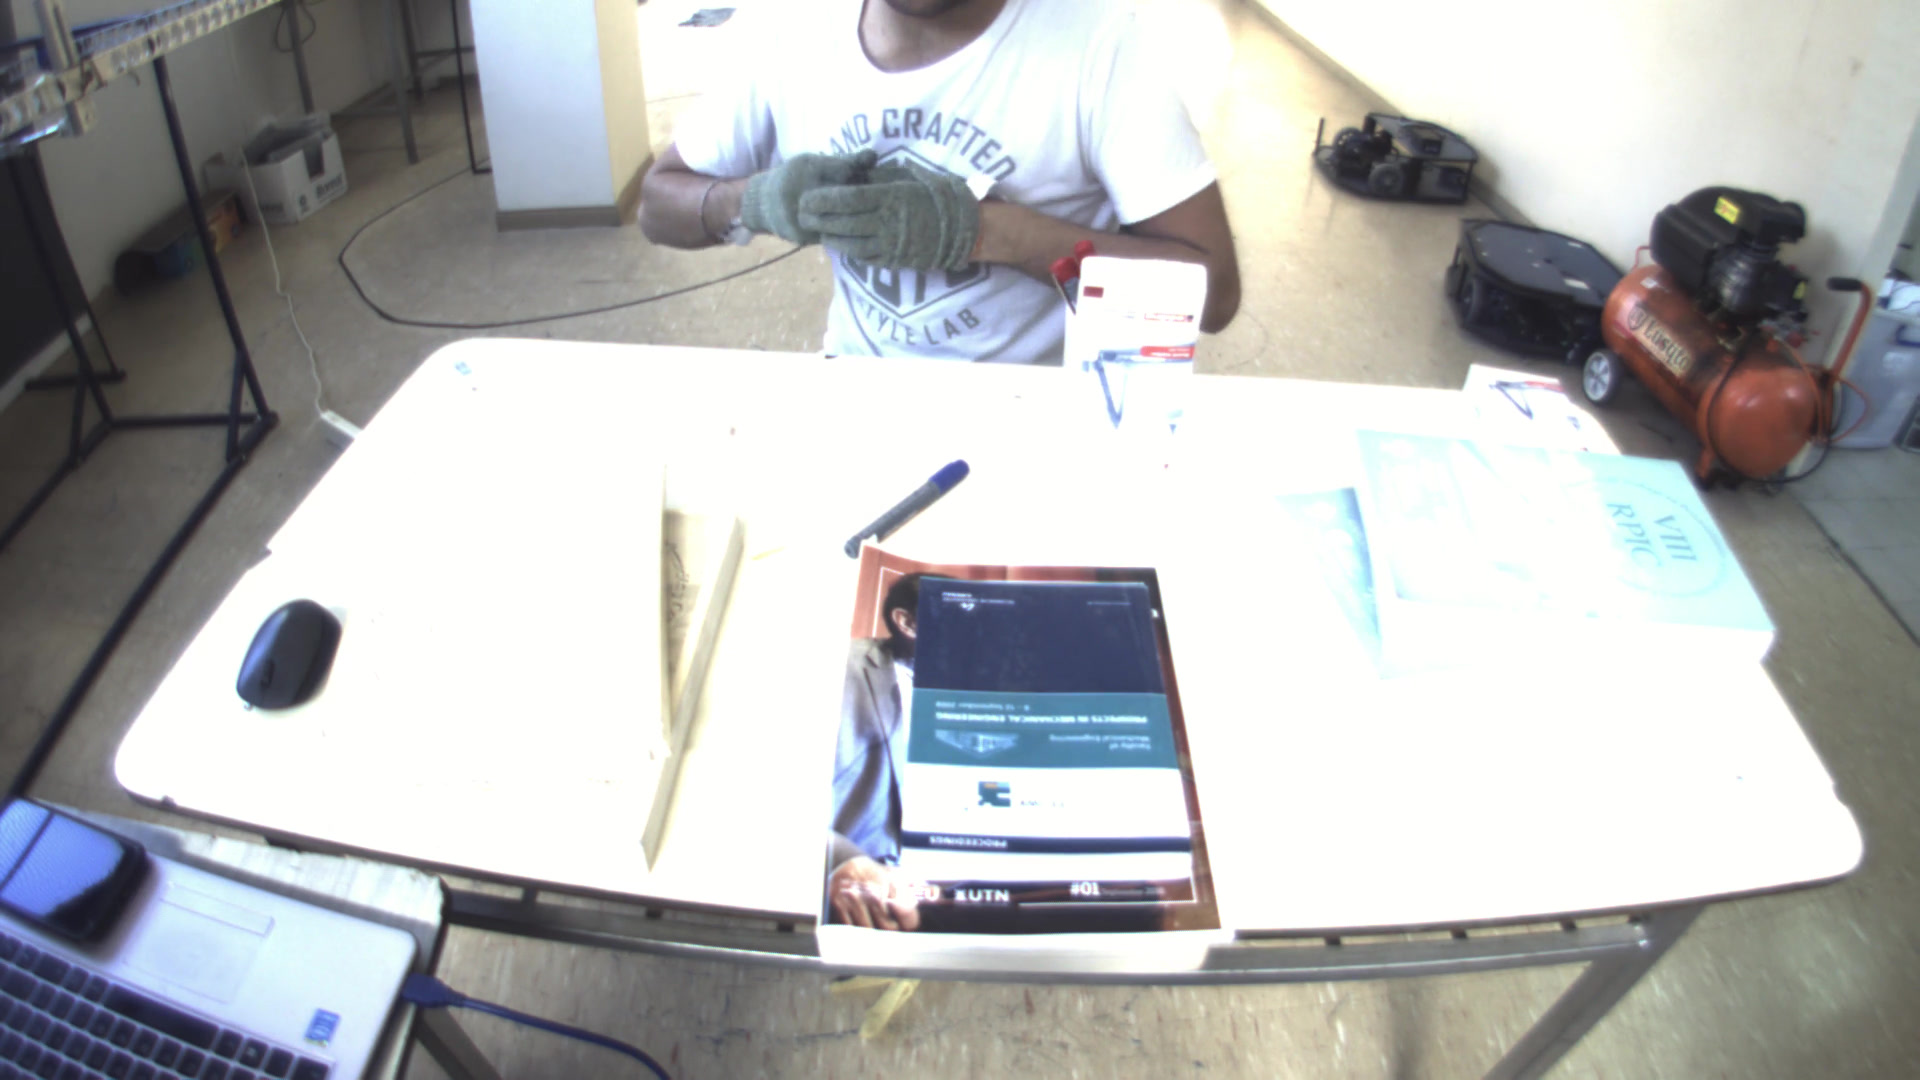hand: (785, 174, 994, 272)
